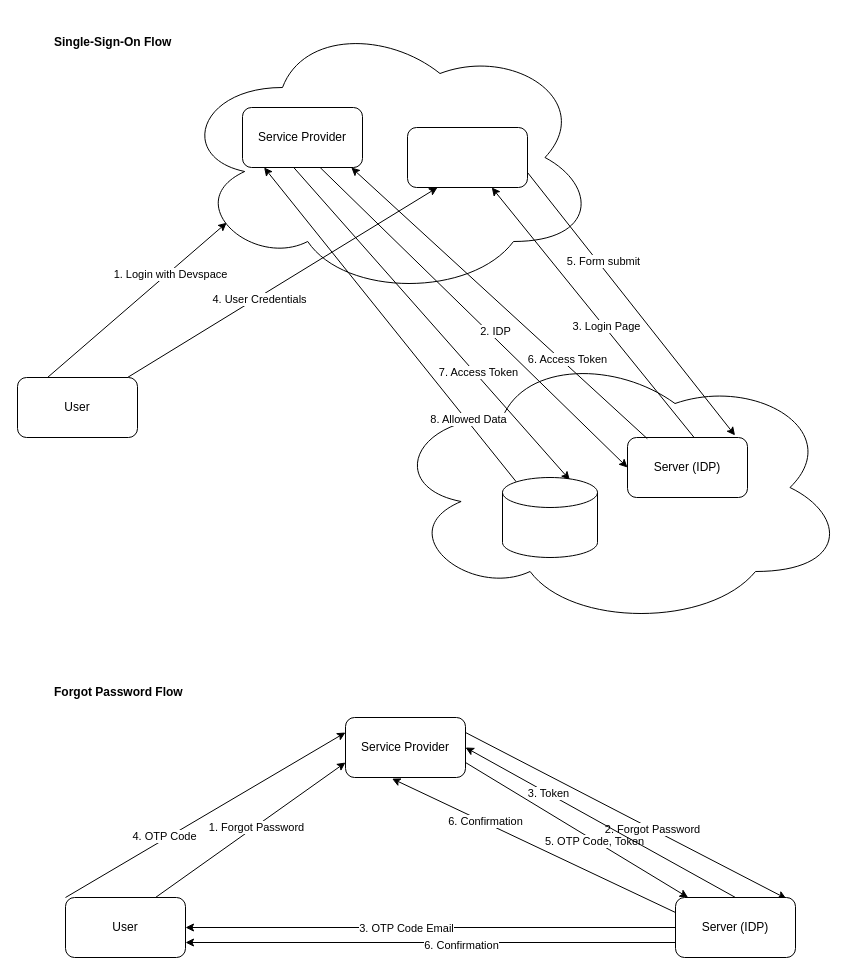
Image size: 865x975. Some labels were removed from this diagram. The shapes that lost their labels are listed below. From the top down, each one's centre as x and y in pixels, then its label:
At [467,157]: "Login Page".
At [550,517]: "Resources".
